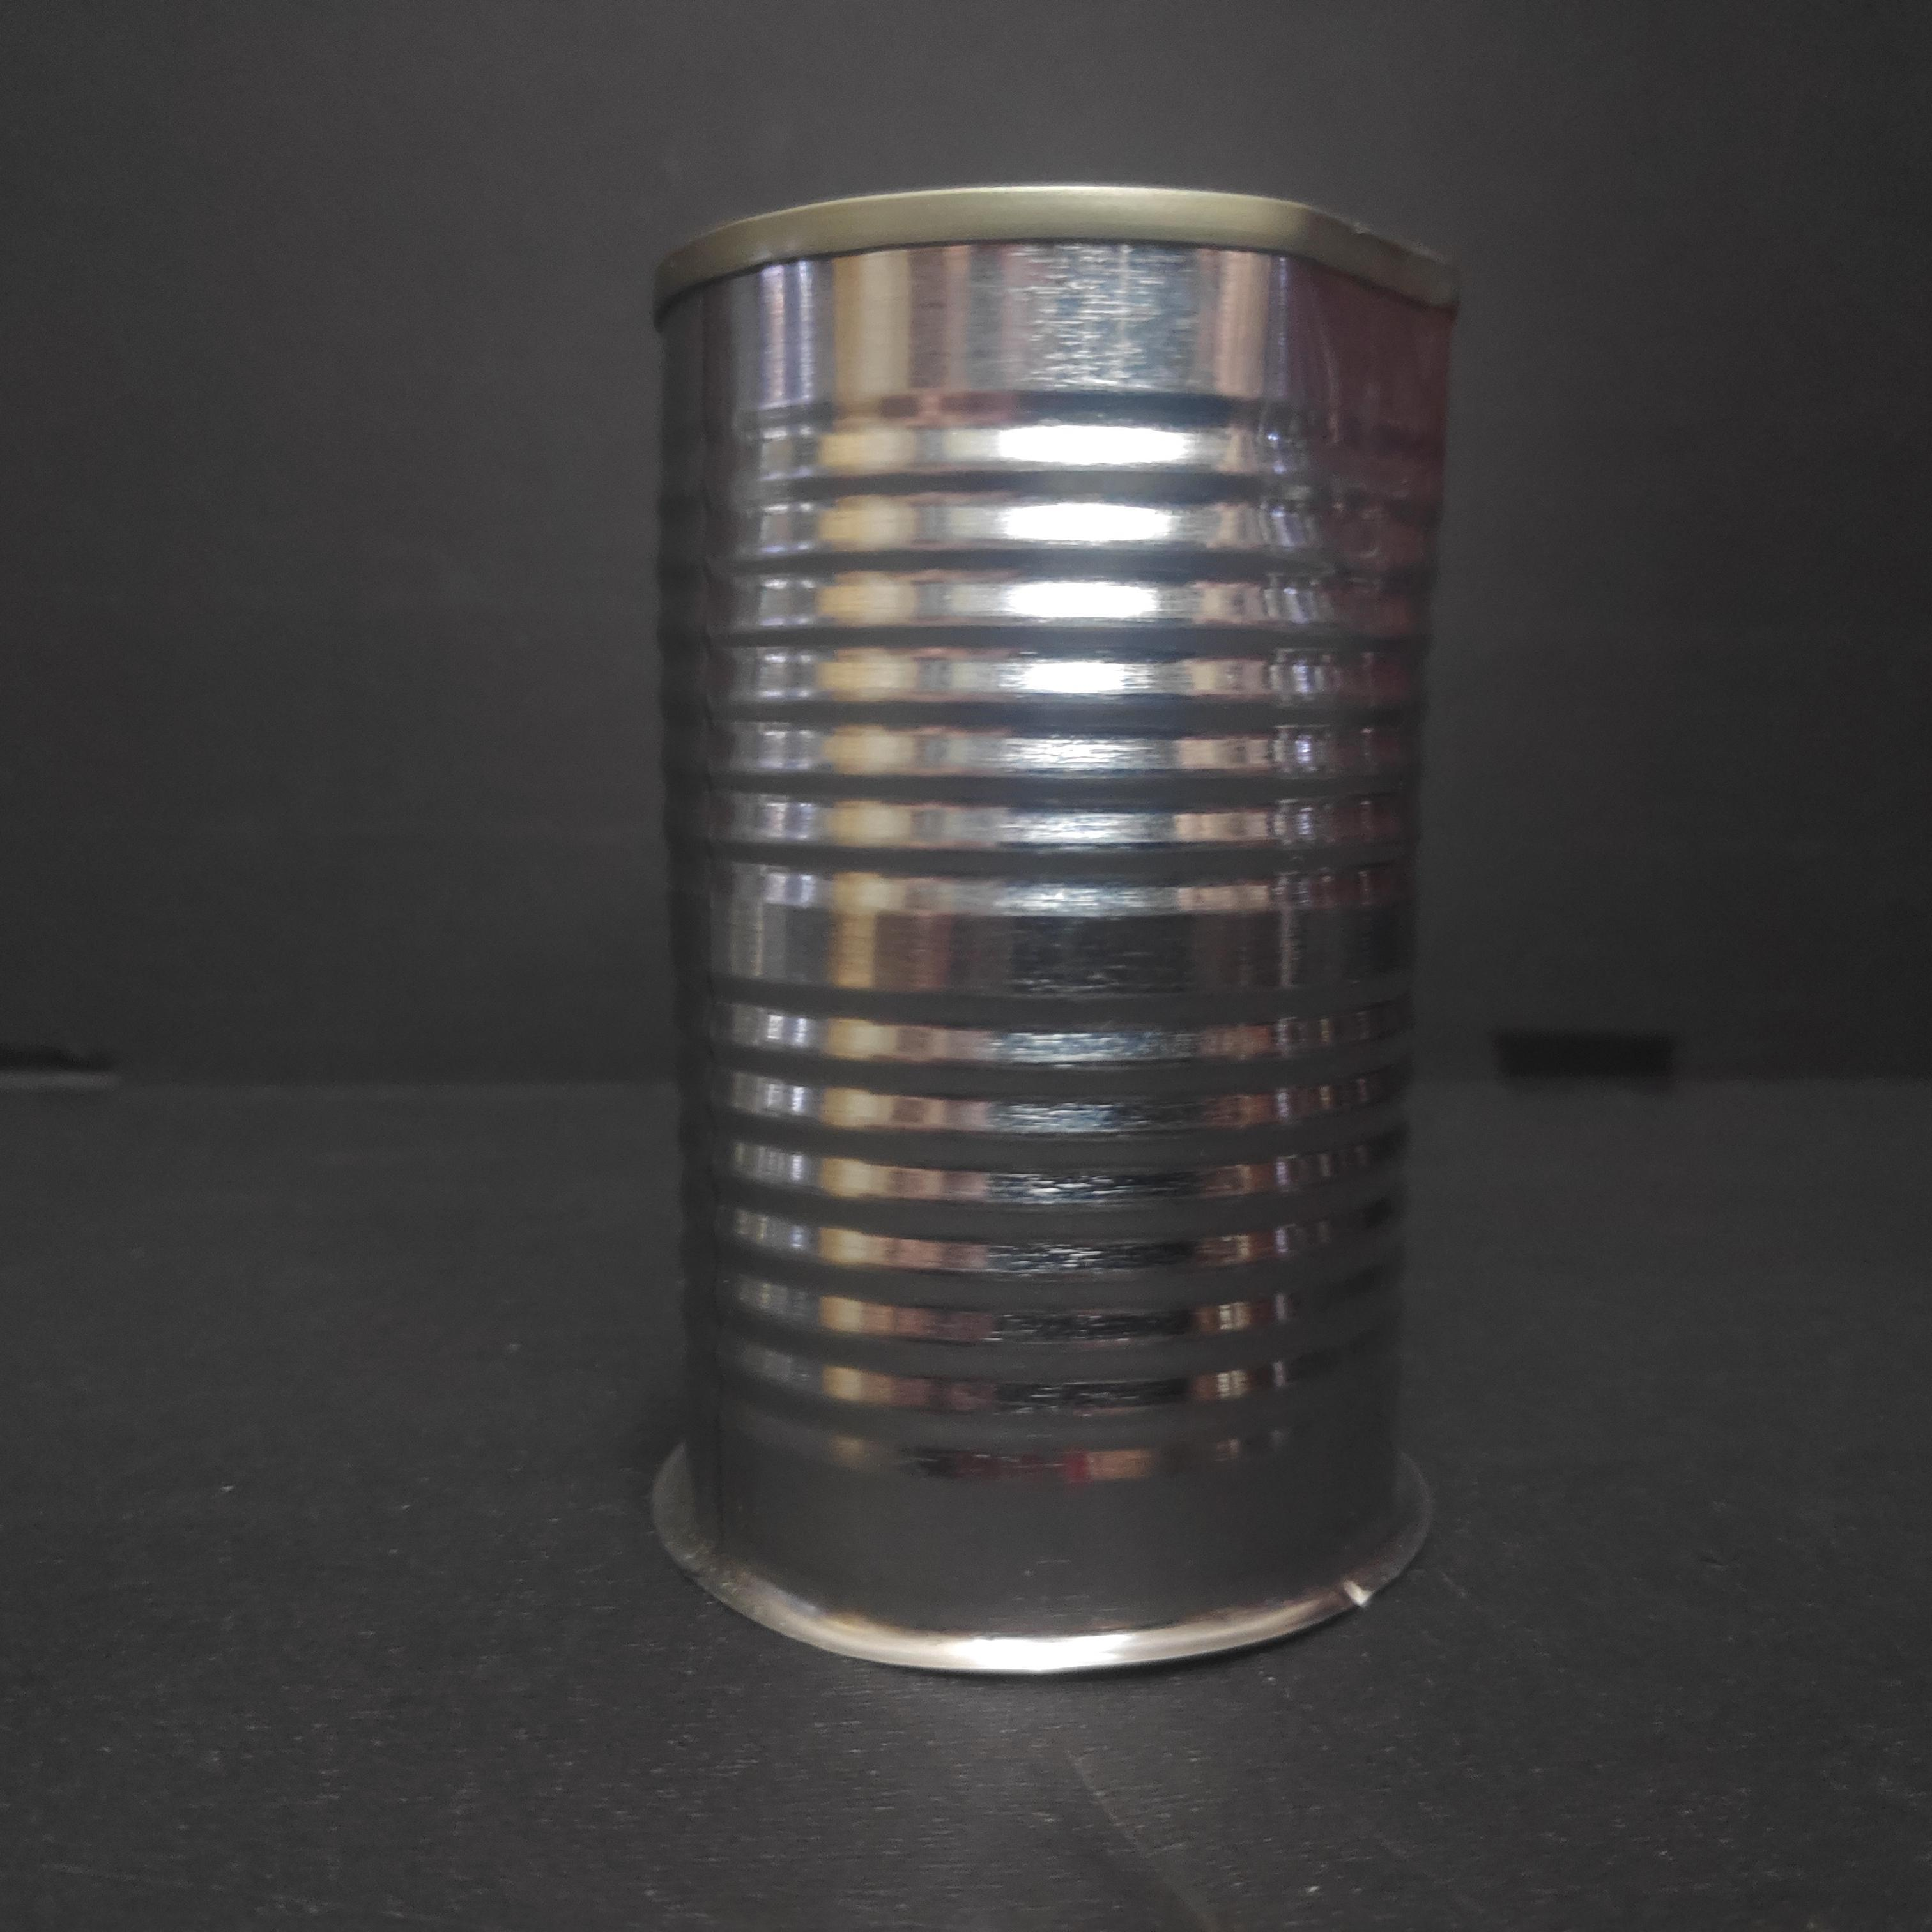Dented: (614, 159, 1486, 1674)
